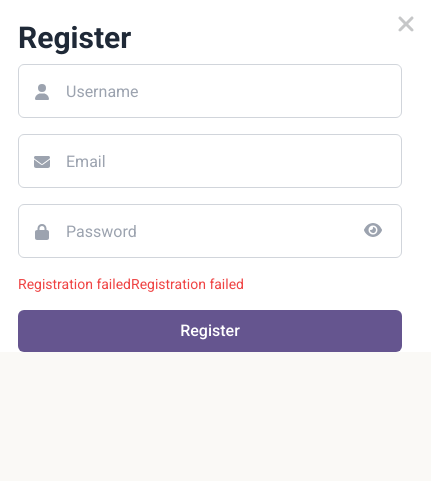
RegisterForm Component › shows validation errors for invalid input values
The width and height of the screenshot is (431, 481).
Type "Noroff Test" into the field labelled "Username" at (210, 91), box [18,64,402,118]
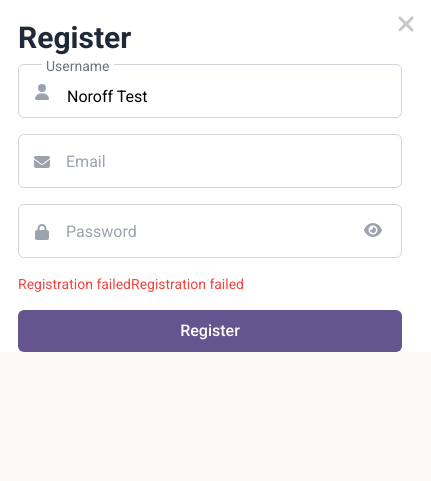
Type "noroff@noroff.no" into the field labelled "Email" at (210, 161), box [18,134,402,188]
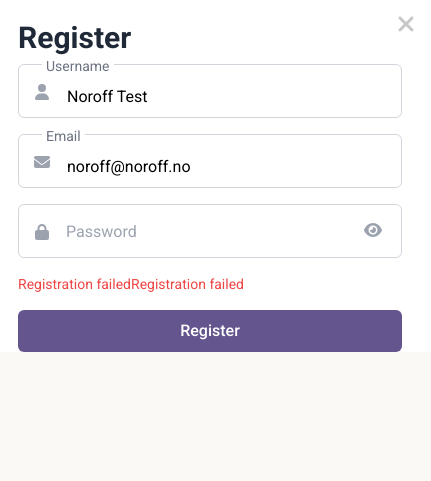
Type "123" into the password field labelled "Password" at (210, 231), box [18,204,402,258]
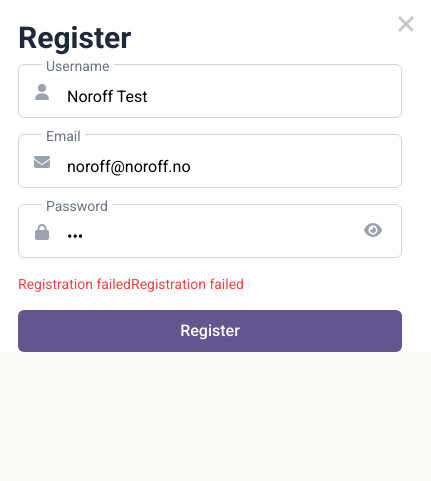
Click the button "Register" at (210, 331), box [18,310,402,352]
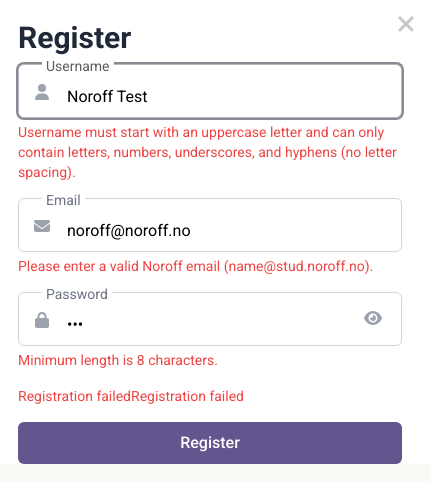
Check: the text "Username must start with an uppercase letter" is shown, box [18,124,397,180]
Check: the text "Please enter a valid Noroff email (name@stud.noroff.no)." is shown, box [18,256,402,276]
Check: the text "Minimum length is 8 characters." is shown, box [18,352,218,368]
